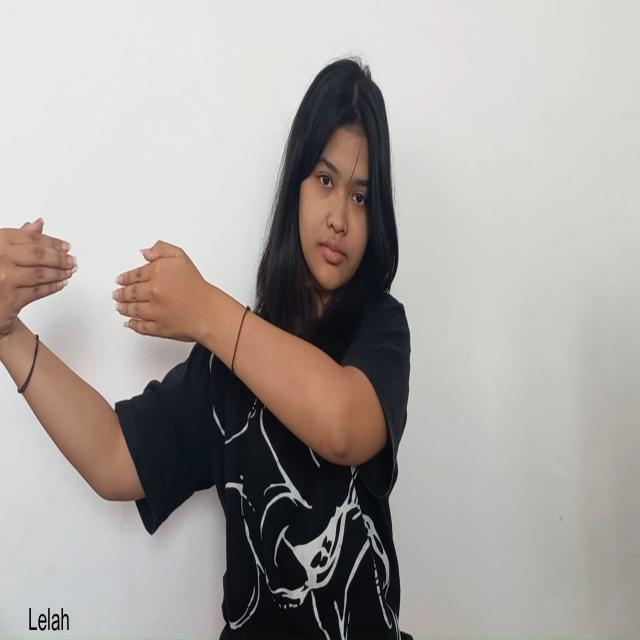Lelah -BISINDO-: (0, 213, 217, 357)
